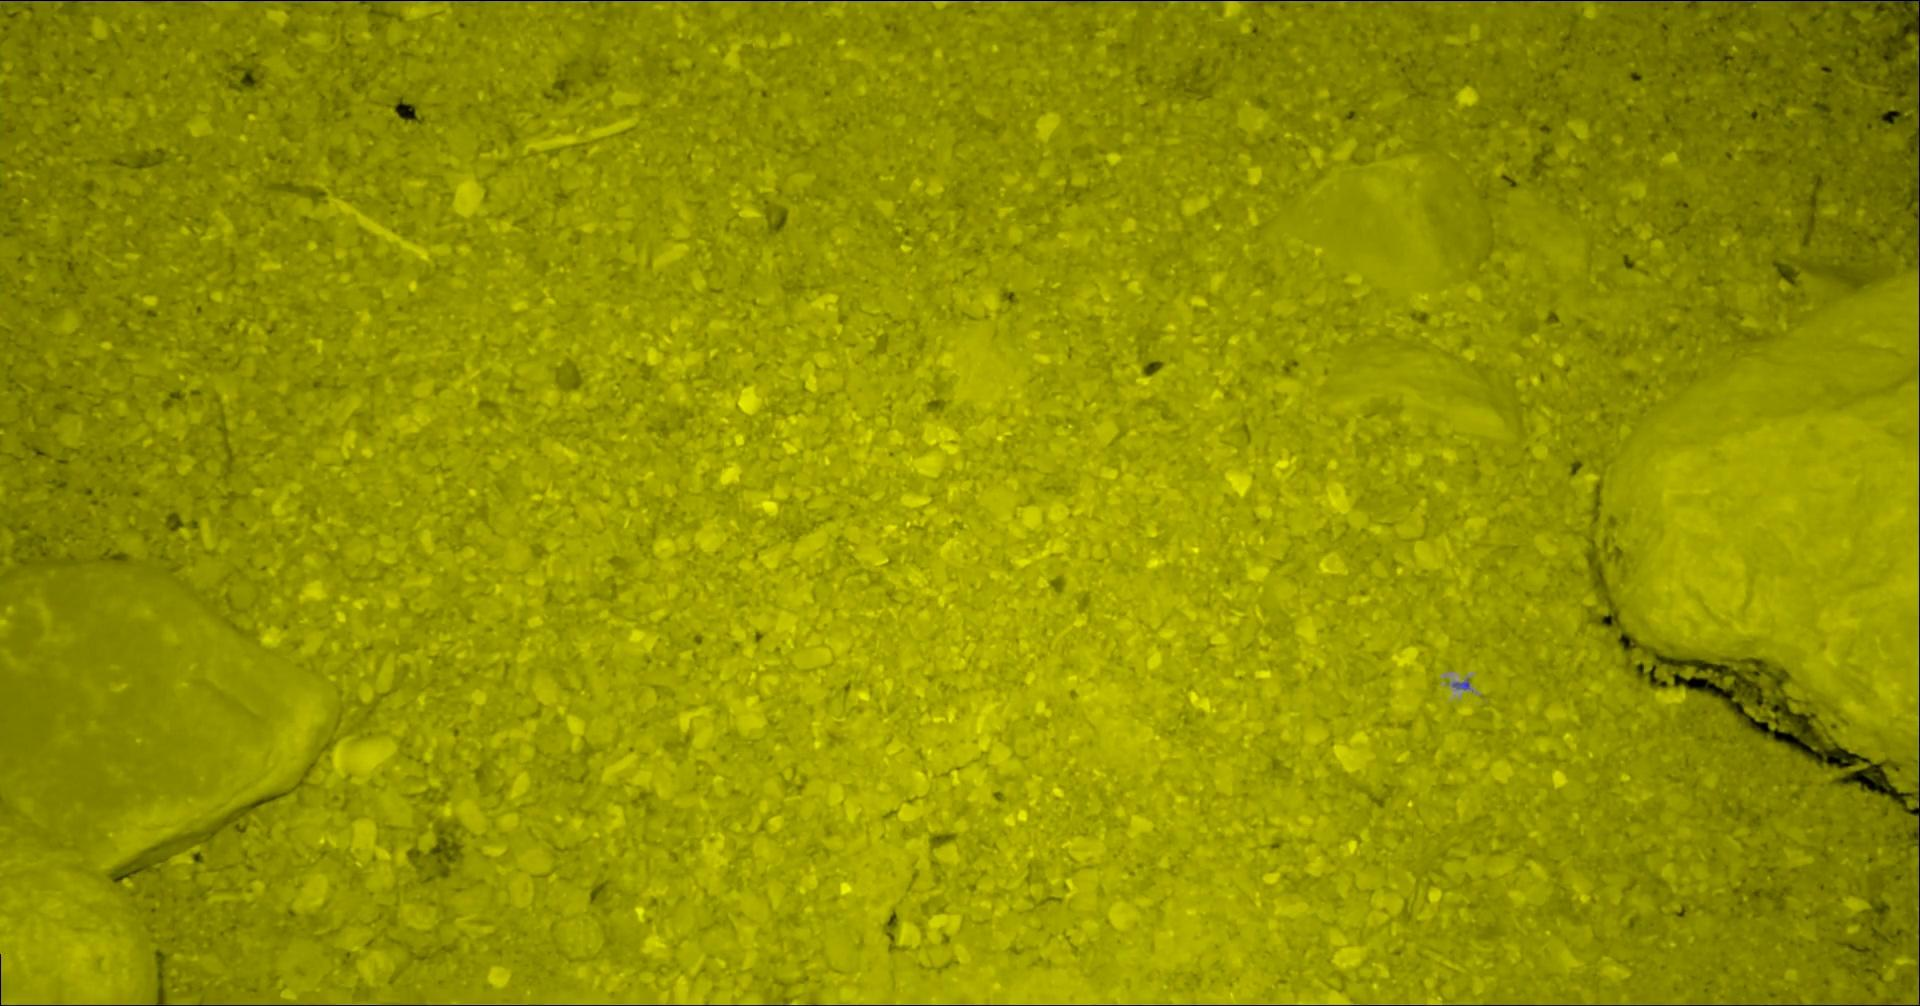ant: (1835, 0, 1919, 13), (1917, 170, 1919, 246), (1917, 62, 1919, 127), (1766, 0, 1829, 1)
